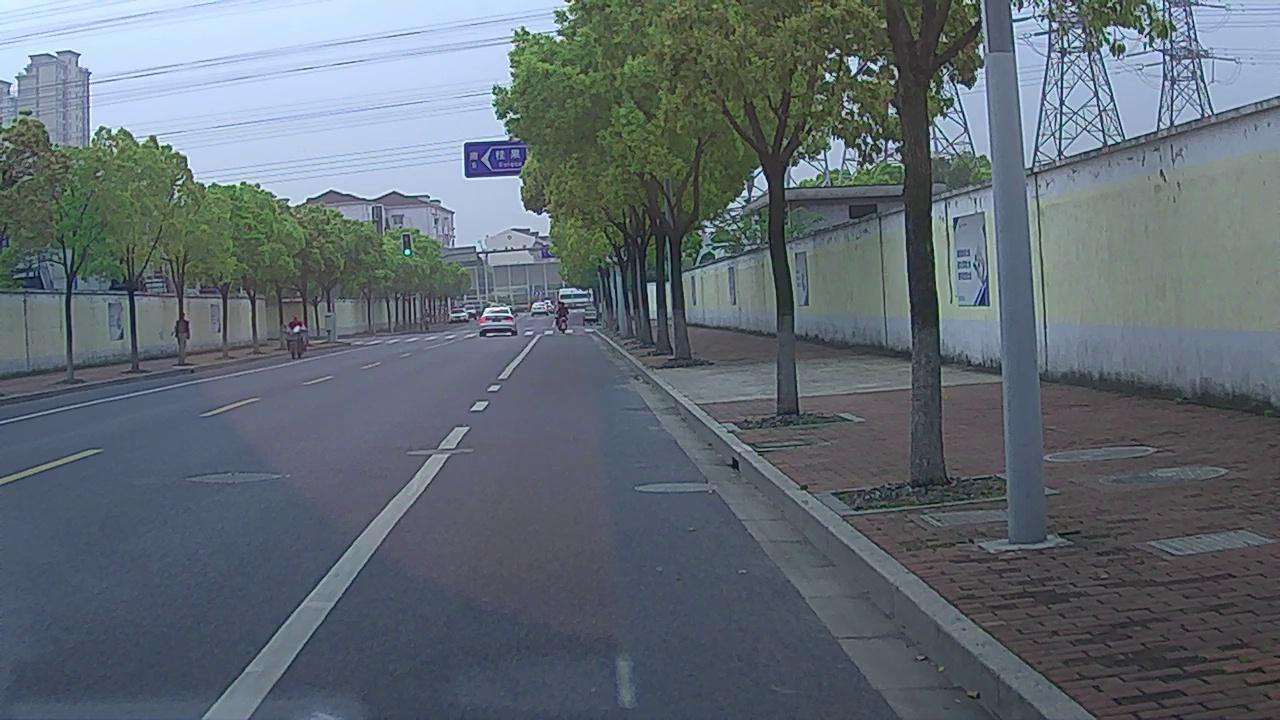traffic_light: (402, 233, 411, 256)
